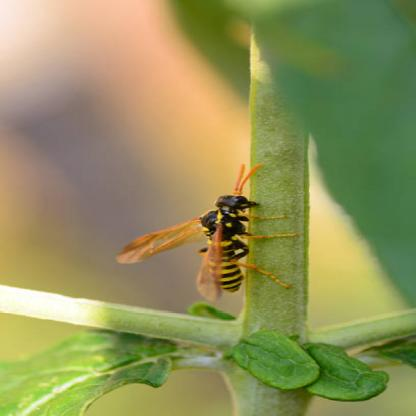sawfly: (115, 159, 306, 309)
